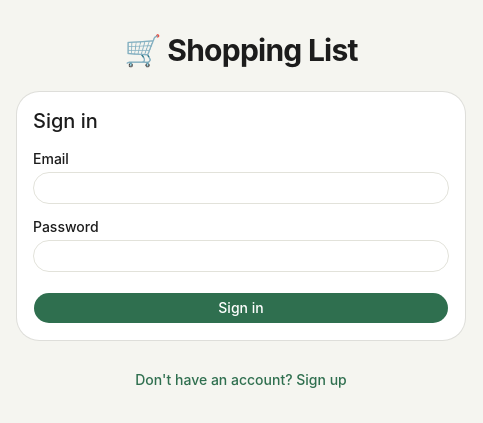
Test: AuthScreen › shows a validation error instead of submitting when the email is blank
Type "longenough" into the password field labelled "Password".
click(241, 256); type("longenough")  # box top-left (33, 240), bottom-right (449, 272)
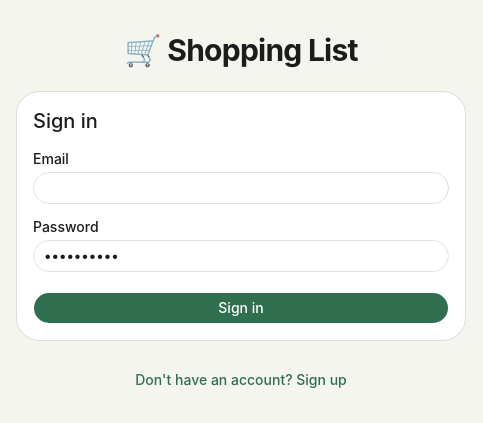
Click the button "Sign in".
click(241, 308)  # box top-left (33, 292), bottom-right (449, 324)
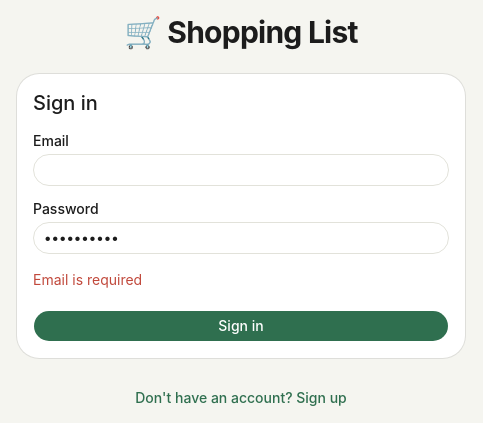
Expected: the message reads "Email is required", top-left (33, 271), bottom-right (142, 288)
